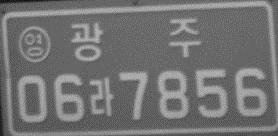0: (16, 74, 47, 124)
5: (194, 69, 229, 119)
6: (234, 66, 268, 117), (54, 73, 85, 123)
7: (118, 70, 148, 120)
8: (157, 69, 190, 119)
광주_D: (70, 17, 201, 61)
라: (88, 76, 114, 117)
영: (18, 25, 52, 64)
